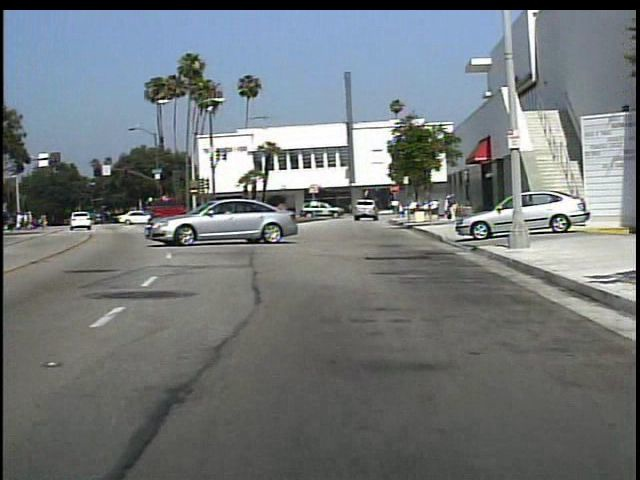person: (447, 190, 461, 226), (442, 194, 452, 223)
